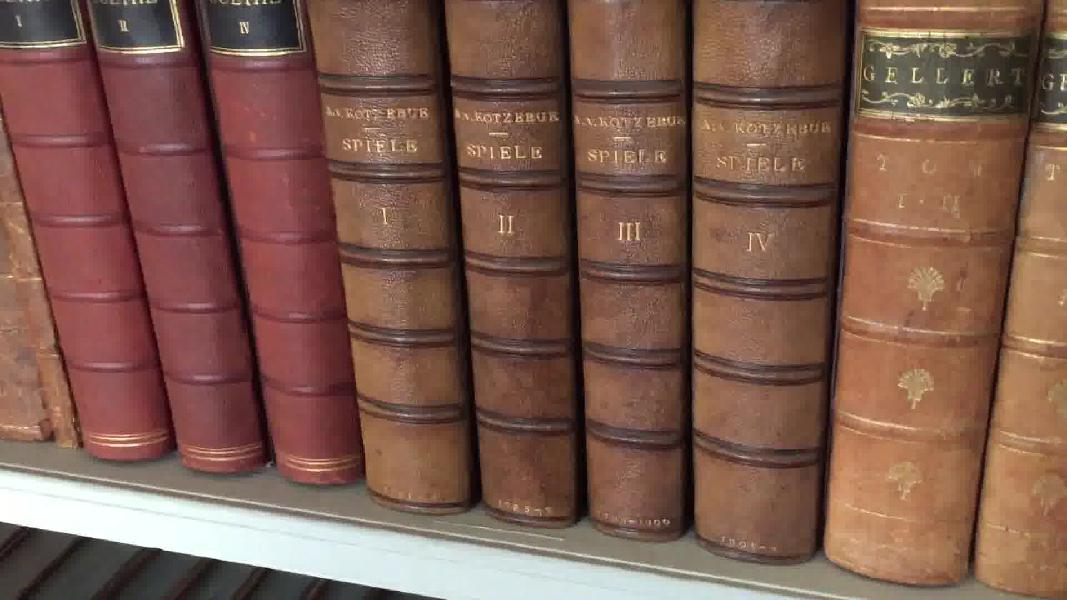Aa6-11_13: (5, 4, 365, 492)
Aa6-14_17: (311, 2, 861, 577)
